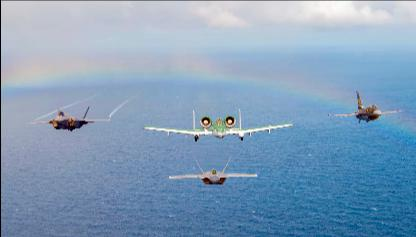A10: (142, 109, 292, 141)
F14: (326, 91, 402, 123)
F18: (168, 155, 256, 185)
F22: (28, 106, 108, 130)
